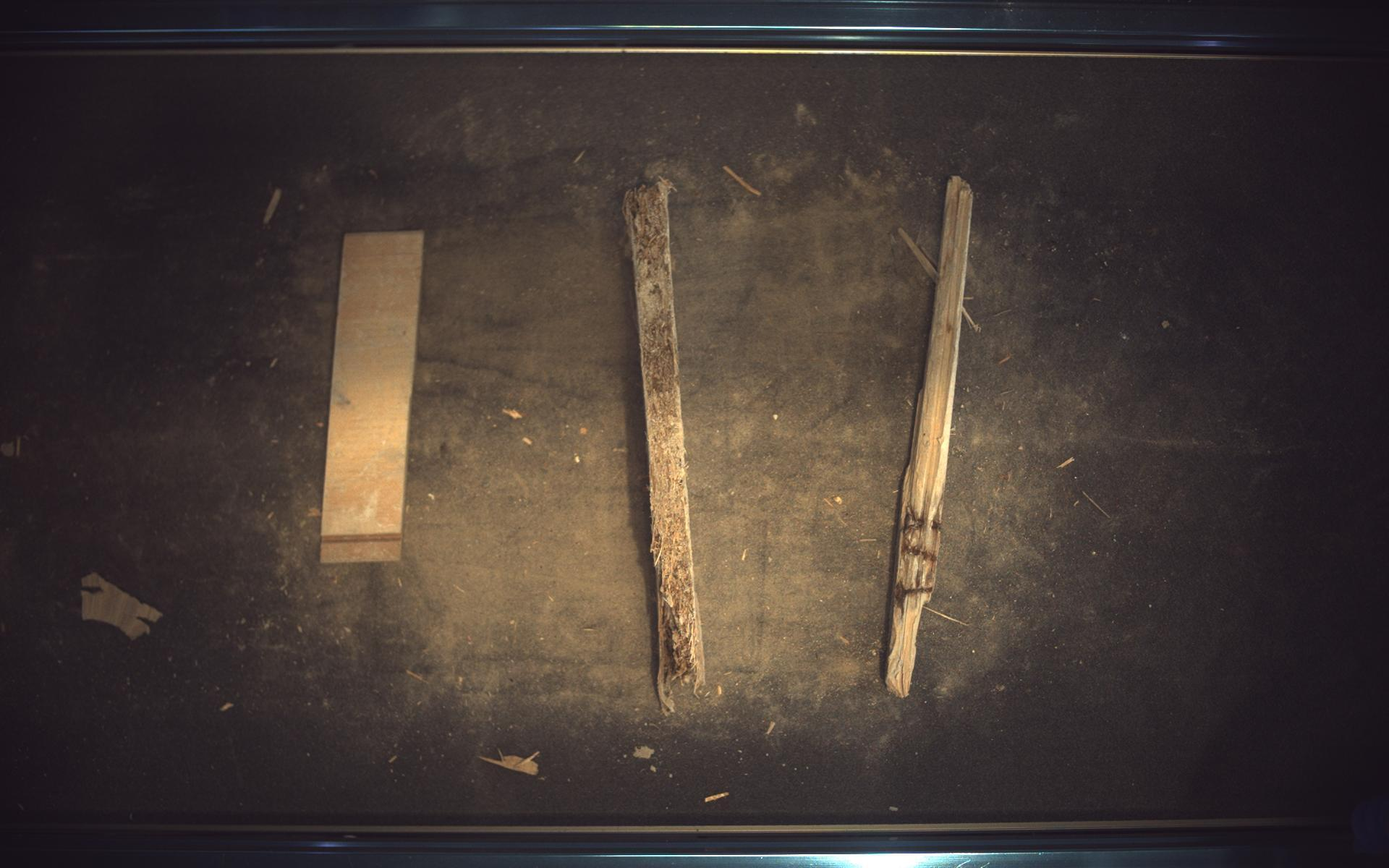wood: (887, 175, 975, 698), (624, 178, 706, 713), (320, 230, 424, 563)
